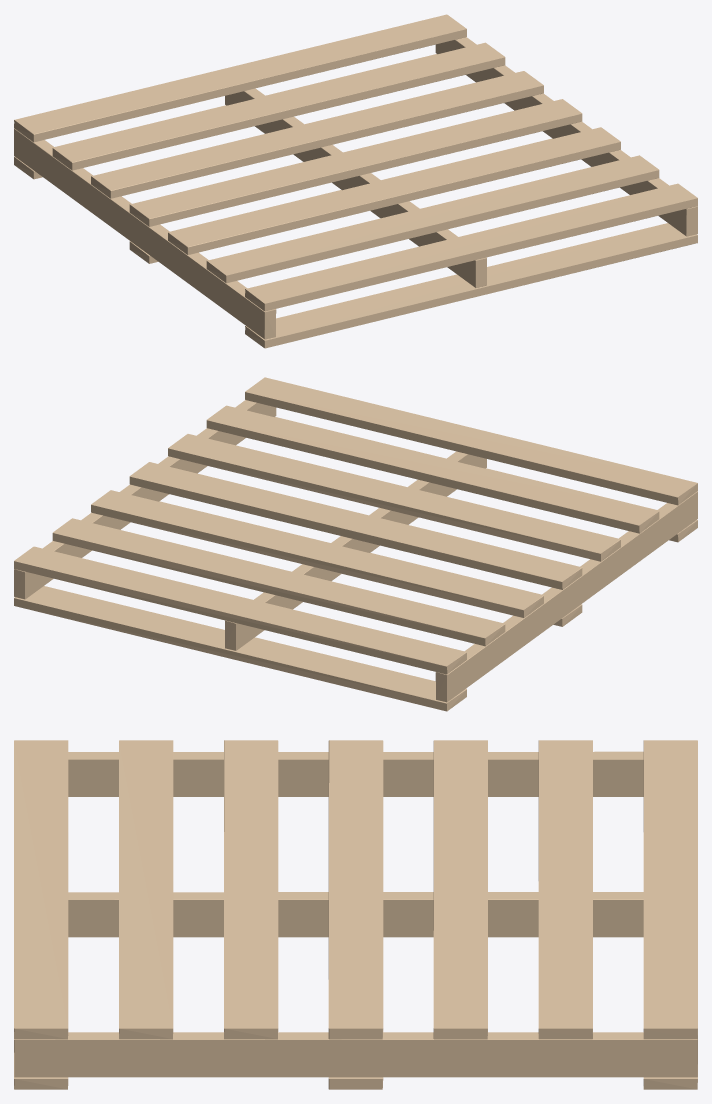
The model's file is crate_pallet.glb.
The picture shows the model from 3 angles, top to bottom: view 1: azimuth 30°, elevation 25°; view 2: azimuth 150°, elevation 25°; view 3: azimuth 270°, elevation 25°; orthographic projection. The views are drawn at different scales.
Visible parts, largest first — view 1: Cube.001; view 2: Cube.001; view 3: Cube.001.
Boxes of the visible parts, x1,y1,x2,y2 form: Cube.001: (14, 14, 697, 348); Cube.001: (14, 377, 697, 711); Cube.001: (14, 740, 697, 1089).
Bounding box in the file's own units: 1.2 × 0.12 × 1.2.
